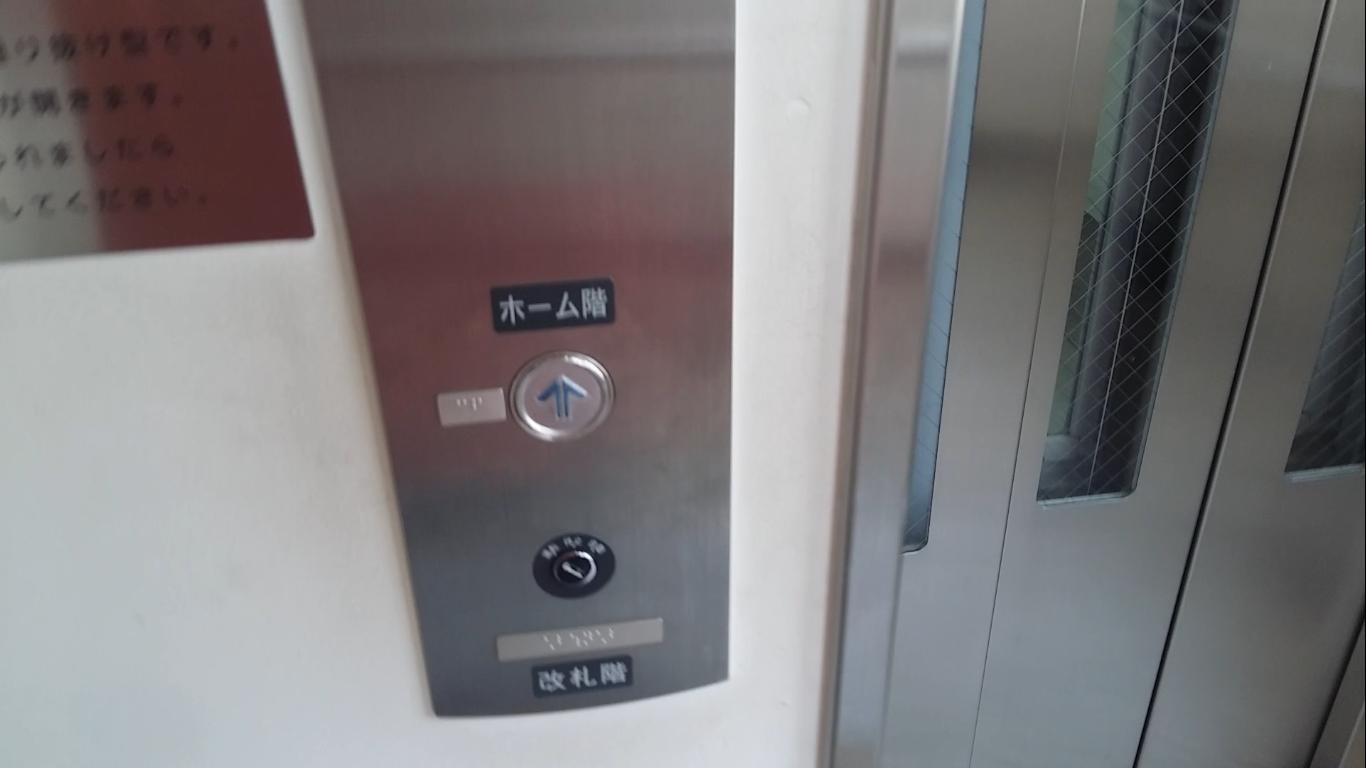keyhole: (532, 533, 614, 604)
up: (508, 345, 619, 450)
